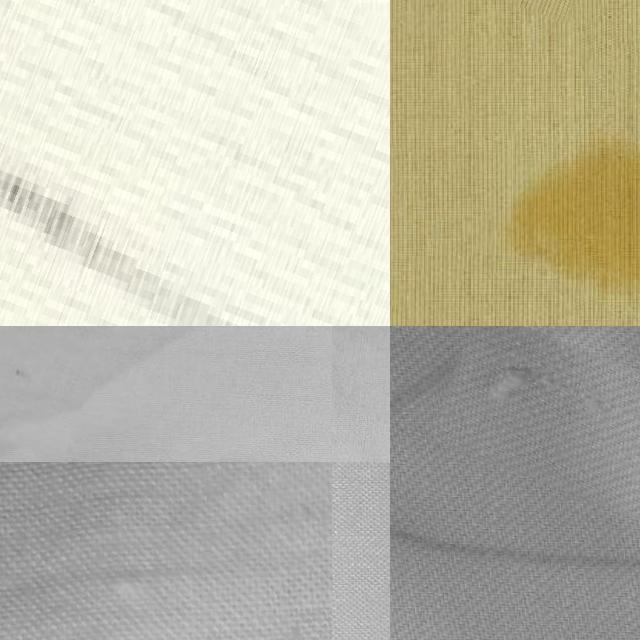Hole: (486, 97, 640, 324), (0, 326, 132, 448)
Thread_other: (435, 339, 640, 542)
